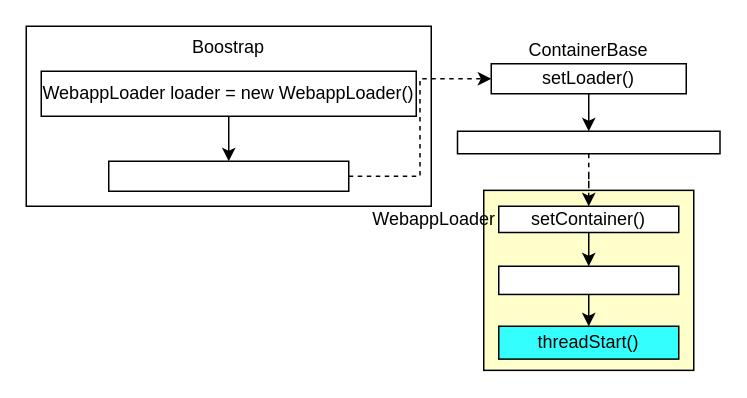
Image size: 747x398. Some labels were removed from this diagram. The shapes that lost their labels are listed below. From the top down, each one's centre as x and y in pixels, then its label:
At [588,142]: "loader.setContainer(this)".
At [228,175]: "context.setLoader(loader)".
At [588,279]: "setReloadable()".
